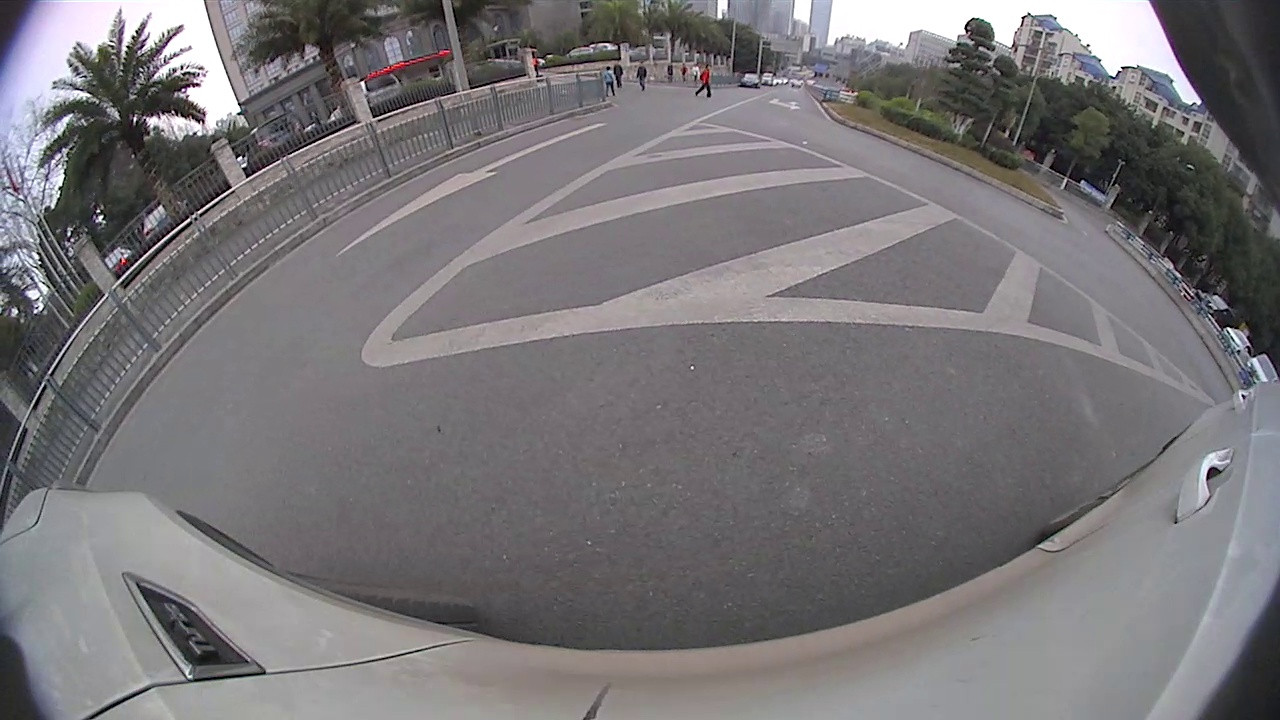car: (1137, 288, 1182, 350), (1185, 361, 1220, 410), (53, 268, 81, 299), (901, 125, 917, 146)
person: (119, 210, 142, 248)
rear: (1154, 334, 1169, 349)
